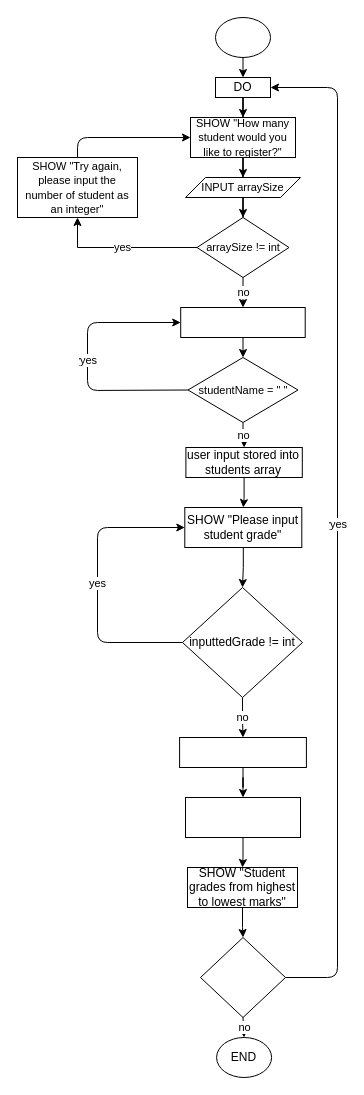
The diagram is 364 pixels wide and 1095 high, and some of its shapes have lost their labels. The centre of each missing label's shape, as x and y in pixels:
restart = true: point (243, 977)
SHOW "Please input student name": point (242, 322)
sort grades array form highest grade to lowest: point (242, 817)
START: point (242, 37)
user input stored into studentsGrades array: point (242, 752)
